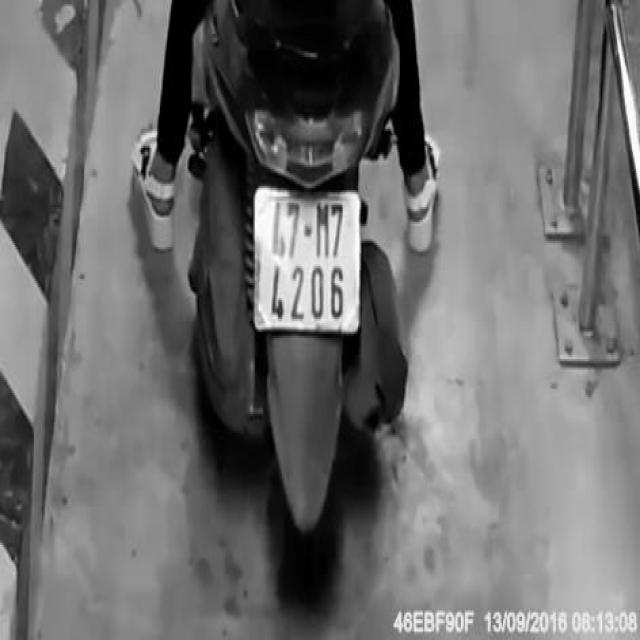license_plate: (254, 187, 364, 349)
